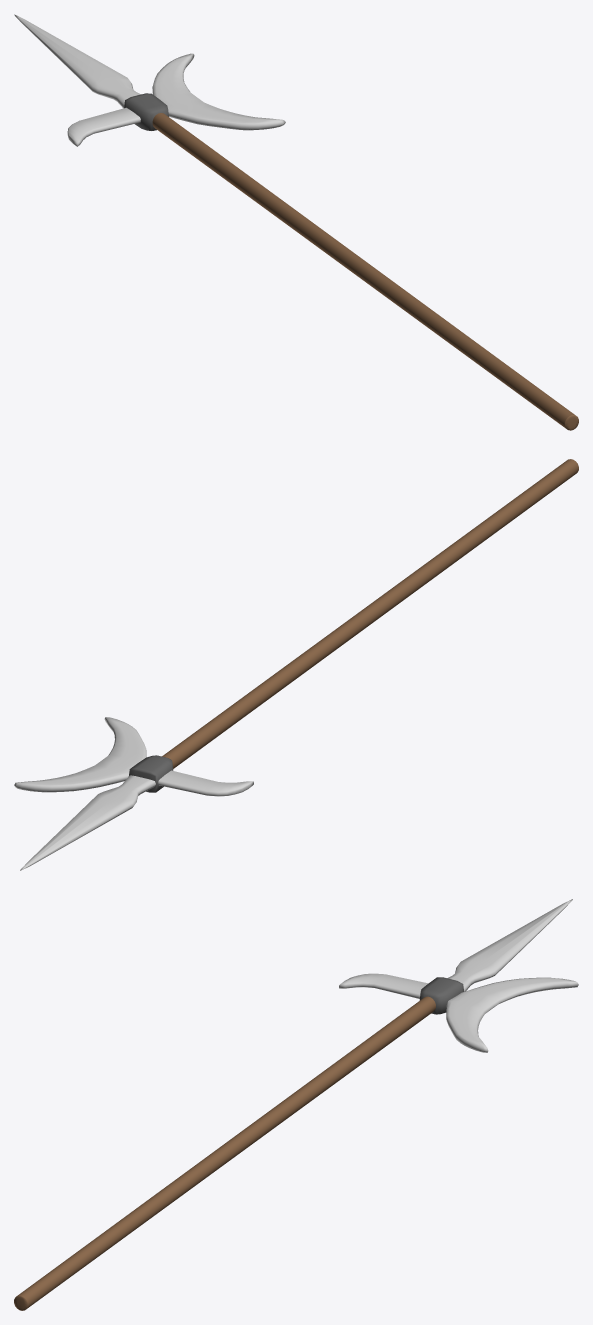
File: Spear_01.fbx
The picture shows the model from 3 angles, top to bottom: view 1: azimuth 30°, elevation 25°; view 2: azimuth 150°, elevation 25°; view 3: azimuth 330°, elevation 25°; orthographic projection.
Parts seen in each view (by area): view 1: Spear_01; view 2: Spear_01; view 3: Spear_01.
Part boxes in pixels (x1=…): Spear_01: x1=14, y1=14, x2=578, y2=430; Spear_01: x1=14, y1=459, x2=578, y2=870; Spear_01: x1=14, y1=899, x2=578, y2=1310.
Size of the model in its own units: 31.13 by 3.41 by 167.
